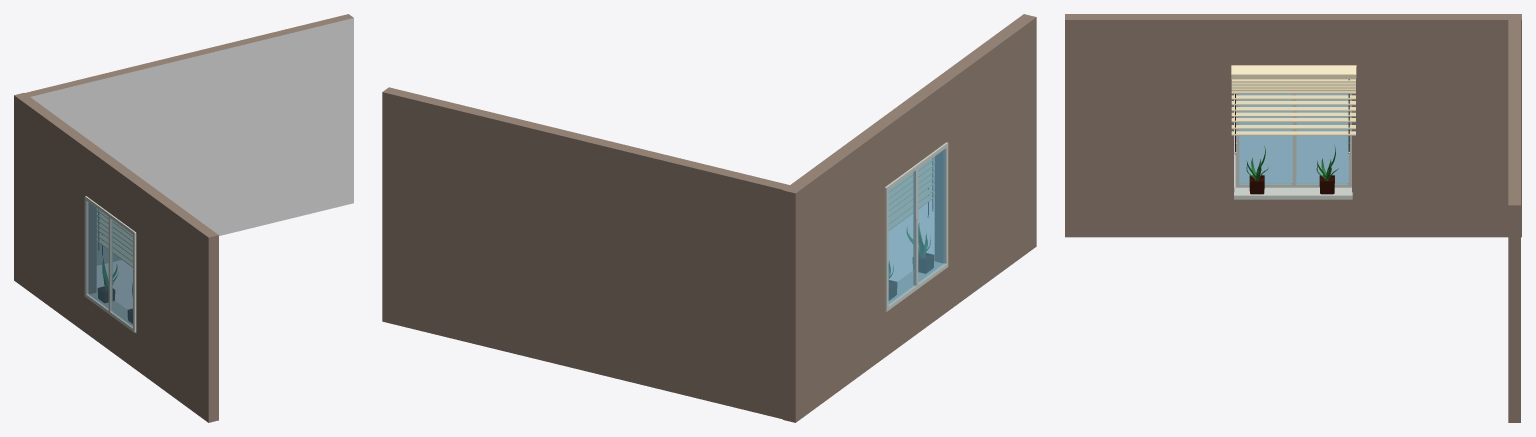
The model's file is walls_tier14.fbx.
3 renders of one model, left to right at view 1: azimuth 30°, elevation 25°; view 2: azimuth 150°, elevation 25°; view 3: azimuth 270°, elevation 25°, orthographic. The views are drawn at different scales.
Visible parts, largest first — view 1: Cube.007, Cube, Cube.003, Cube.001; view 2: Cube.007, Cube, Cube.003, Cube.001; view 3: Cube, Cube.003, Cube.007, Cube.002, Cube.021, Cube.001, Cube.014, Cube.015, Cube.016, Cube.018, Cube.019, Cube.020 (+1 smaller).
Boxes of the visible parts, left/top/right/bottom form: Cube.007: left=24, top=14, right=353, bottom=265; Cube: left=14, top=93, right=218, bottom=422; Cube.003: left=87, top=201, right=132, bottom=327; Cube.001: left=84, top=196, right=136, bottom=332; Cube.007: left=382, top=87, right=789, bottom=419; Cube: left=783, top=14, right=1036, bottom=422; Cube.003: left=888, top=149, right=945, bottom=305; Cube.001: left=885, top=142, right=948, bottom=311; Cube: left=1065, top=14, right=1521, bottom=237; Cube.003: left=1239, top=94, right=1348, bottom=184; Cube.007: left=1508, top=19, right=1520, bottom=422; Cube.002: left=1231, top=65, right=1356, bottom=79; Cube.021: left=1234, top=187, right=1352, bottom=199; Cube.001: left=1235, top=94, right=1351, bottom=187; Cube.014: left=1231, top=95, right=1355, bottom=99; Cube.015: left=1231, top=101, right=1355, bottom=105; Cube.016: left=1231, top=107, right=1355, bottom=111; Cube.018: left=1231, top=118, right=1355, bottom=122; Cube.019: left=1231, top=125, right=1355, bottom=129; Cube.020: left=1231, top=131, right=1355, bottom=135.
Size of the model in its own units: 655 by 346 by 658.
